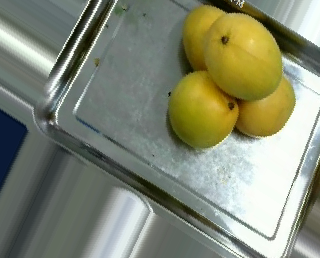Mango: (201, 12, 281, 101), (168, 70, 237, 146), (230, 74, 295, 139), (181, 4, 230, 72)
